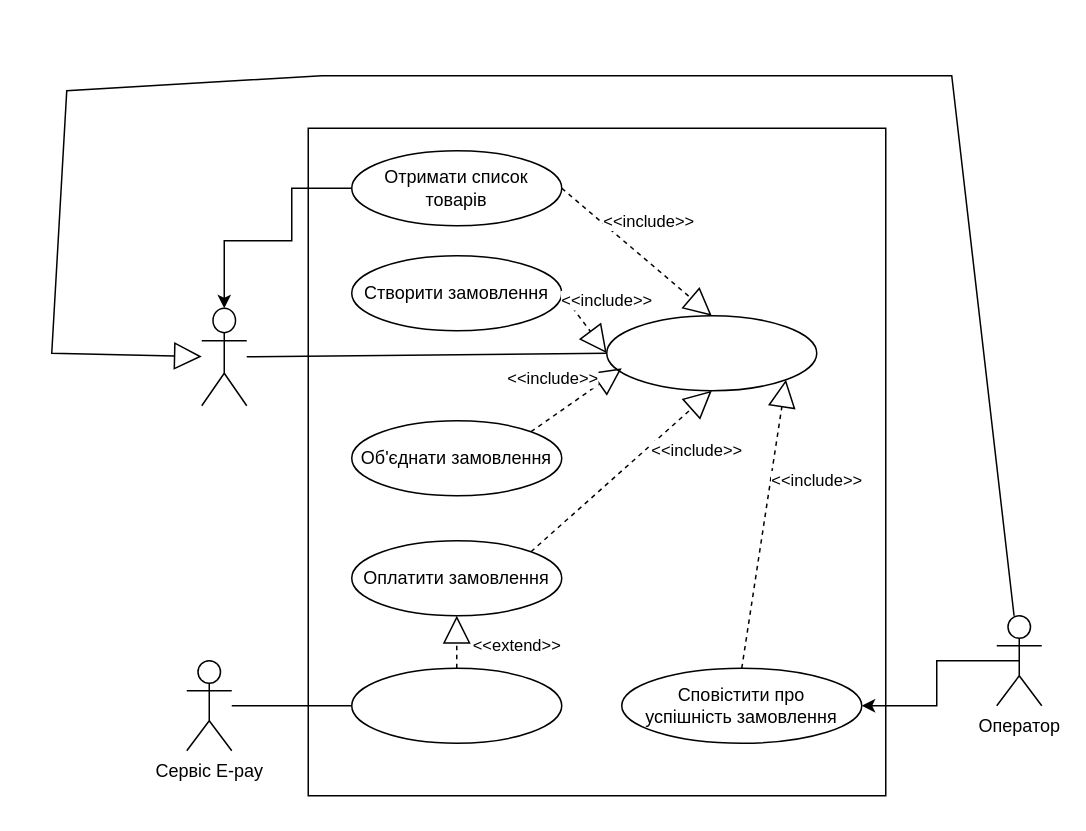
Image size: 1086x831. Some labels were removed from this diagram. Here are the shapes that lost their labels. From the top down, the box of each, then its label:
(200, 307, 247, 406): Спортсмен
(605, 314, 817, 391): Авторизувати користувача
(350, 667, 562, 743): E-pay сплата
